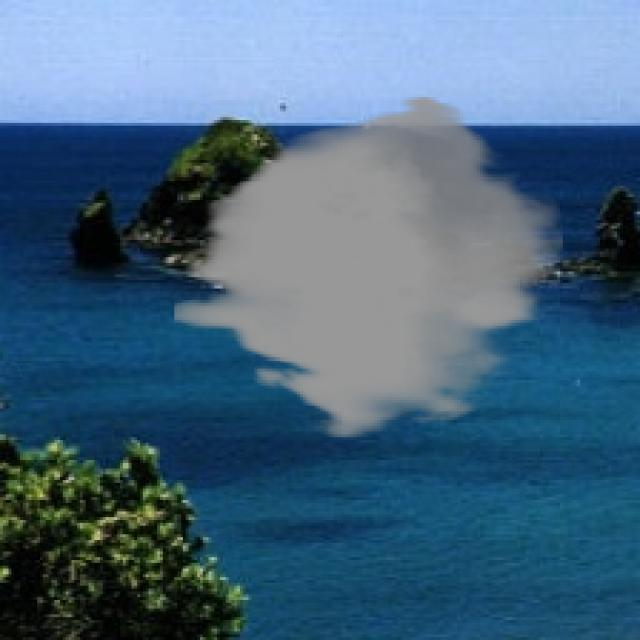smoke: (174, 94, 563, 440)
